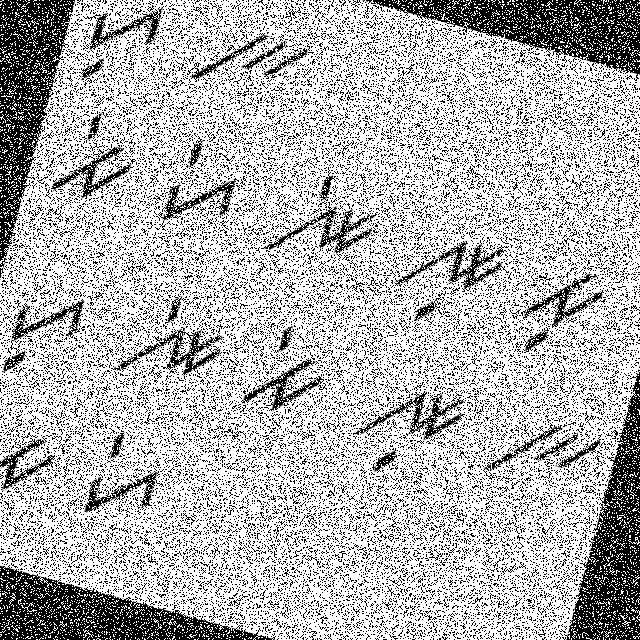he: (76, 420, 182, 534), (153, 127, 254, 242)
hu: (0, 275, 99, 400), (65, 0, 173, 100)
mbe: (231, 313, 341, 426), (44, 107, 151, 216)
mbu: (500, 254, 612, 366), (0, 414, 73, 547)
nde: (253, 148, 394, 291), (104, 267, 240, 410)
ndu: (385, 200, 518, 347), (333, 363, 471, 494)
